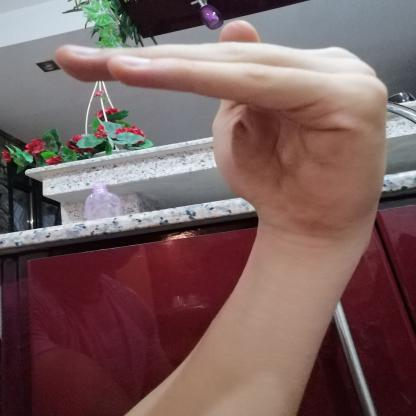KHAA: (38, 13, 400, 248)
